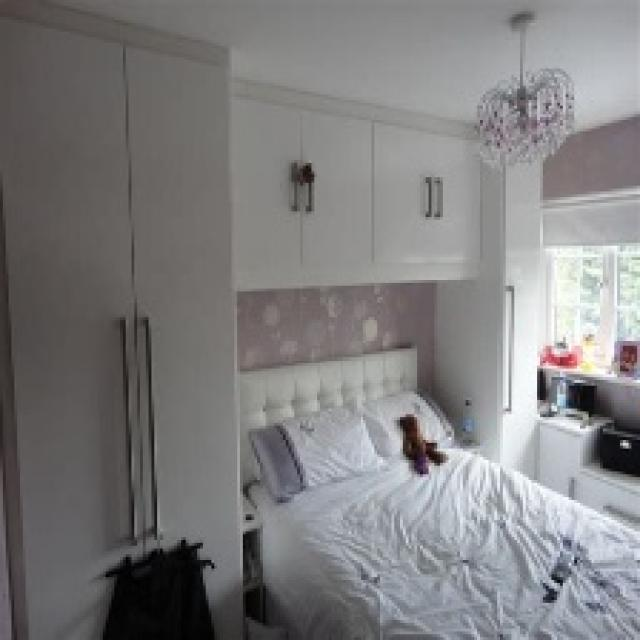Bed: (237, 343, 637, 637)
